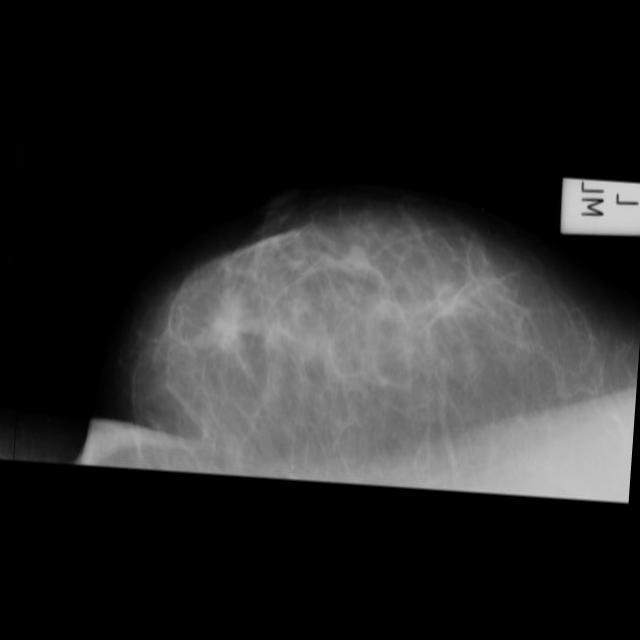SPIC: (190, 282, 262, 354)
